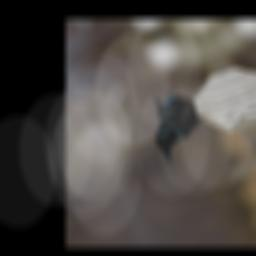Crow: (139, 84, 218, 163)
